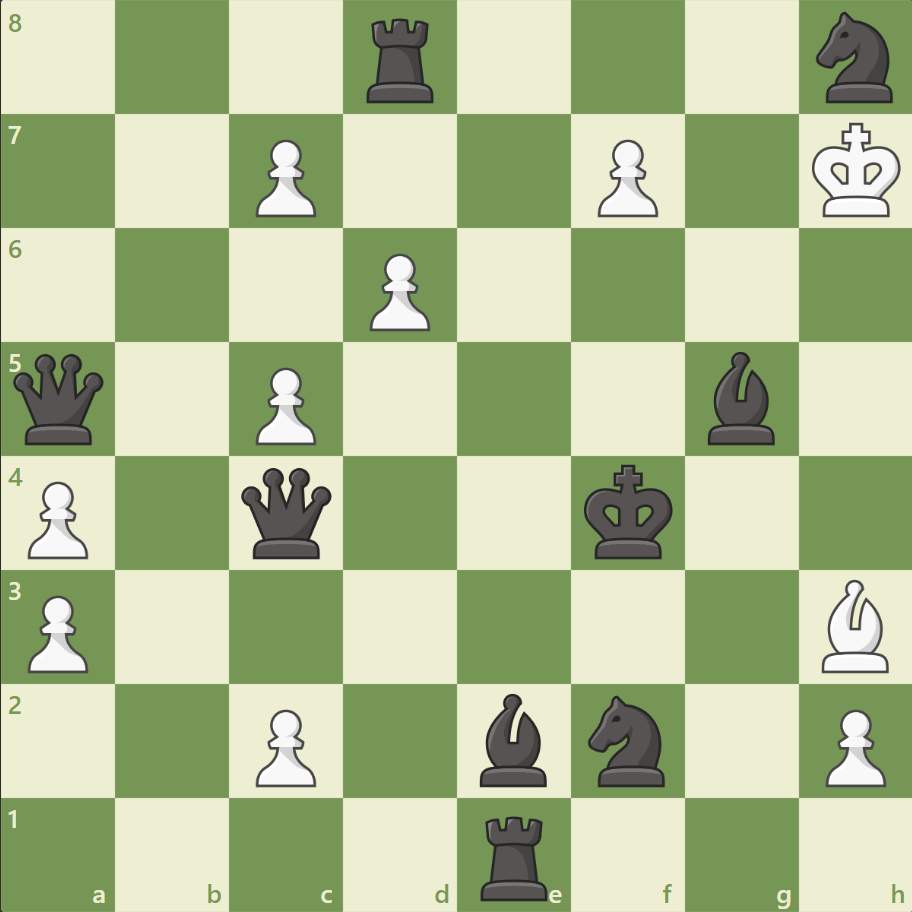B: (812, 574, 896, 676)
K: (806, 117, 906, 225)
P: (247, 132, 322, 223), (247, 359, 322, 450), (20, 473, 95, 564), (20, 586, 95, 677), (247, 700, 322, 791), (588, 132, 662, 223), (361, 246, 435, 337), (815, 700, 889, 791)
b: (471, 687, 555, 790), (698, 347, 782, 449)
k: (579, 458, 679, 566)
n: (806, 7, 903, 110), (579, 688, 676, 791)
q: (10, 349, 109, 449), (237, 463, 336, 562)
r: (473, 806, 556, 904), (360, 12, 442, 109)
